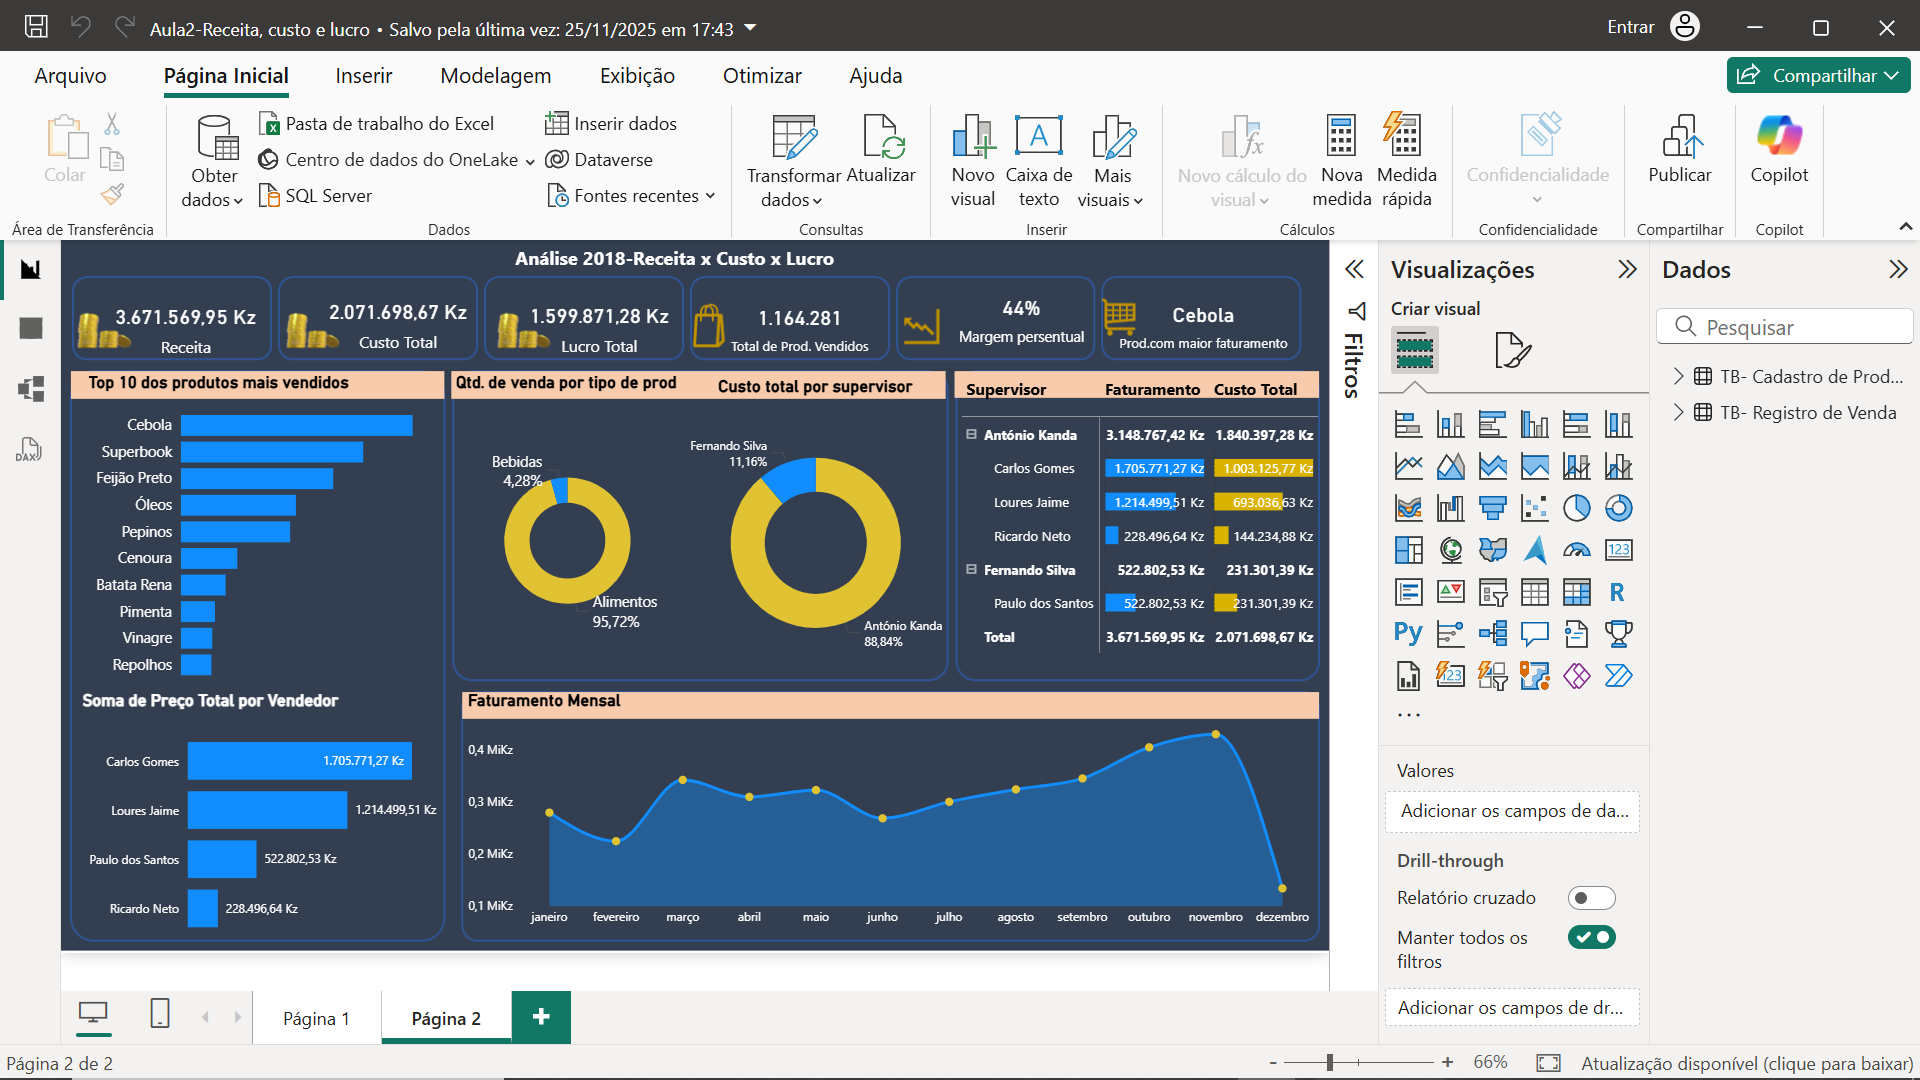

The dashboard page shown, as its layout file describes it:
{"tool":"powerbi","page":{"name":"Página 2","canvas":[1280,720],"ordinal":1},"visuals":[{"type":"card","fields":{"Values":["Sum(TB- Registro de Venda.Preço Total)"]},"box":[26.6,39.1,196.9,96.9],"z":0},{"type":"card","fields":{"Values":["TB- Registro de Venda.Lucro Total"]},"box":[437.6,39.1,211,95.3],"z":1000},{"type":"card","fields":{"Values":["TB- Registro de Venda.Margem persentual"]},"box":[862.8,39.1,212.6,76.6],"z":2000},{"type":"card","fields":{"Values":["TB- Registro de Venda.TOTAL DE PRODUTOS"]},"box":[628.3,39.1,234.4,95.3],"z":3000},{"type":"card","fields":{"Values":["Sum(TB- Registro de Venda.Custo Total)"]},"box":[242.3,39.1,195.4,86],"z":4000},{"type":"card","fields":{"Values":["Min(TB- Cadastro de Produtos.Produtos)"]},"box":[1055,43.8,195.4,81.3],"z":5000},{"type":"barChart","title":"Top  10 dos produtos mais vendidos","fields":{"Category":["TB- Cadastro de Produtos.Produtos"],"Y":["Sum(TB- Registro de Venda.Preço Total)"]},"box":[23.4,132.8,356.4,322],"z":6000},{"type":"barChart","fields":{"Category":["TB- Registro de Venda.Vendedor"],"Y":["Sum(TB- Registro de Venda.Preço Total)"]},"box":[17.2,454.8,420.4,265.7],"z":7000},{"type":"areaChart","title":"Faturamento Mensal","fields":{"Category":["TB- Registro de Venda.Data.Variation.Hierarquia de datas.Mês"],"Y":["Sum(TB- Registro de Venda.Preço Total)"]},"box":[406.4,454.8,862.8,246.9],"z":8000},{"type":"donutChart","title":"Qtd. de venda por tipo de prod","fields":{"Category":["TB- Cadastro de Produtos.Tipo de Produto"],"Y":["Sum(TB- Registro de Venda.Quantidade)"]},"box":[393.9,132.8,234.4,320.4],"z":9000},{"type":"donutChart","title":"Custo total por supervisor","fields":{"Category":["TB- Registro de Venda.Supervisor"],"Y":["Sum(TB- Registro de Venda.Custo Total)"]},"box":[618.9,137.5,284.5,315.7],"z":10000},{"type":"pivotTable","fields":{"Rows":["TB- Registro de Venda.Supervisor","TB- Registro de Venda.Vendedor"],"Values":["Sum(TB- Registro de Venda.Preço Total)","Sum(TB- Registro de Venda.Custo Total)"]},"box":[903.4,125,376.7,309.5],"z":11000},{"type":"textbox","box":[223.5,0,790.9,54.7],"z":12000}]}

Visuals, with their boxes on the page's 1280x720 design canvas (x1, y1, x2, y2). These are canvas units, not pixel positions in the 1920x1080 screenshot, which may show the page scaled, cropped or inside an application window:
card - Sum(TB- Registro de Venda.Preço Total): region(27, 39, 224, 136)
card - TB- Registro de Venda.Lucro Total: region(438, 39, 649, 134)
card - TB- Registro de Venda.Margem persentual: region(863, 39, 1075, 116)
card - TB- Registro de Venda.TOTAL DE PRODUTOS: region(628, 39, 863, 134)
card - Sum(TB- Registro de Venda.Custo Total): region(242, 39, 438, 125)
card - Min(TB- Cadastro de Produtos.Produtos): region(1055, 44, 1250, 125)
"Top  10 dos produtos mais vendidos" barChart: region(23, 133, 380, 455)
barChart - TB- Registro de Venda.Vendedor x Sum(TB- Registro de Venda.Preço Total): region(17, 455, 438, 720)
"Faturamento Mensal" areaChart: region(406, 455, 1269, 702)
"Qtd. de venda por tipo de prod" donutChart: region(394, 133, 628, 453)
"Custo total por supervisor" donutChart: region(619, 138, 903, 453)
pivotTable - TB- Registro de Venda.Supervisor x TB- Registro de Venda.Vendedor: region(903, 125, 1280, 434)
textbox: region(224, 0, 1014, 55)
